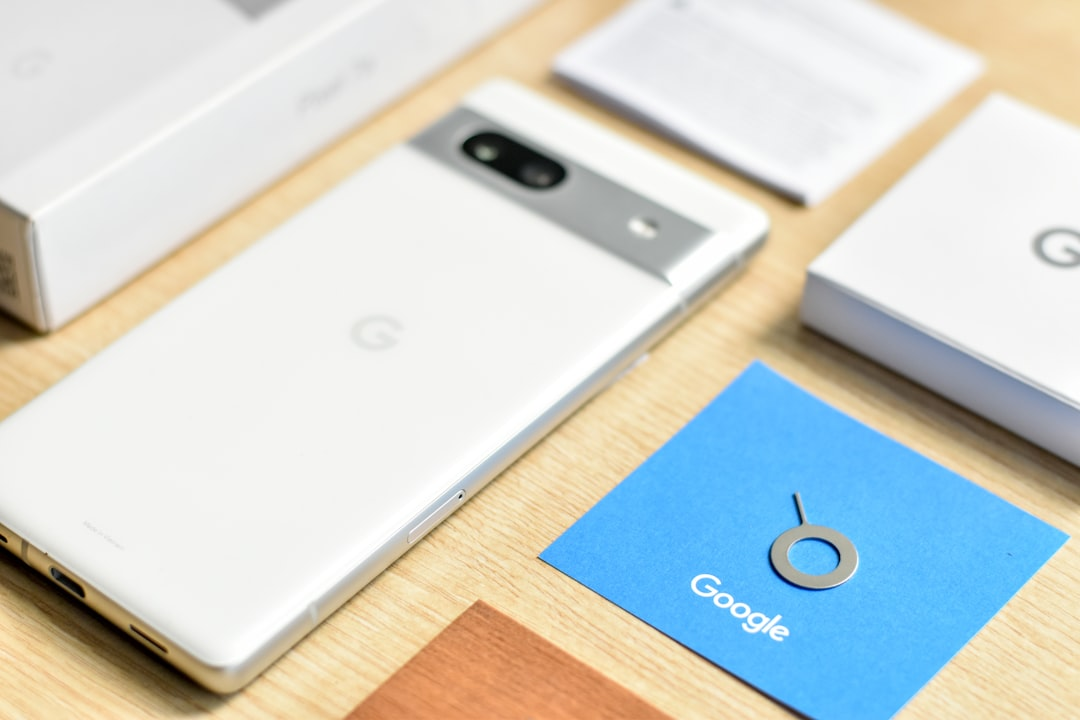phone: (1, 75, 775, 700)
